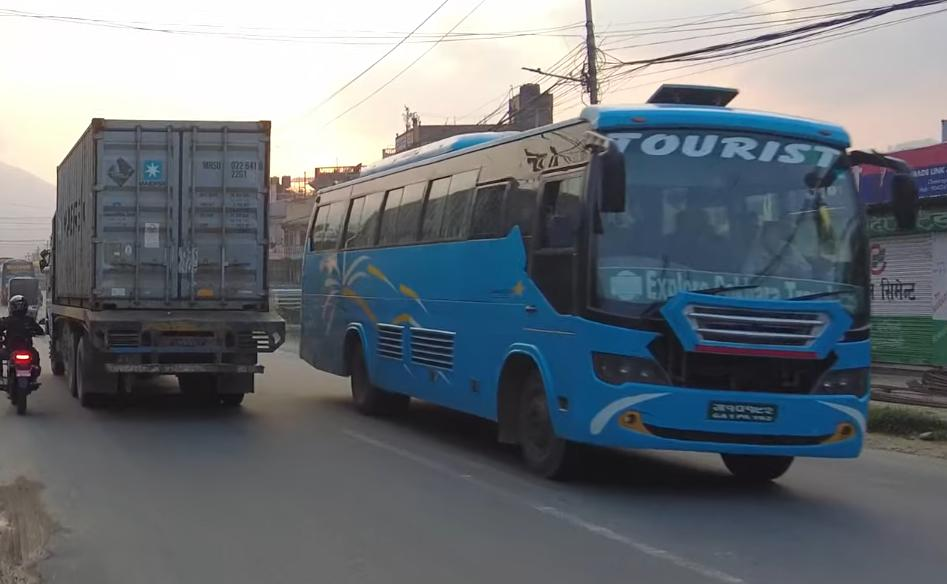bus: (297, 78, 918, 502)
